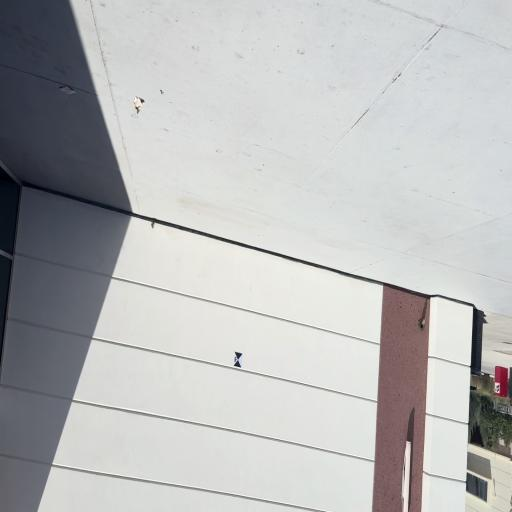target4: (234, 351, 243, 368)
